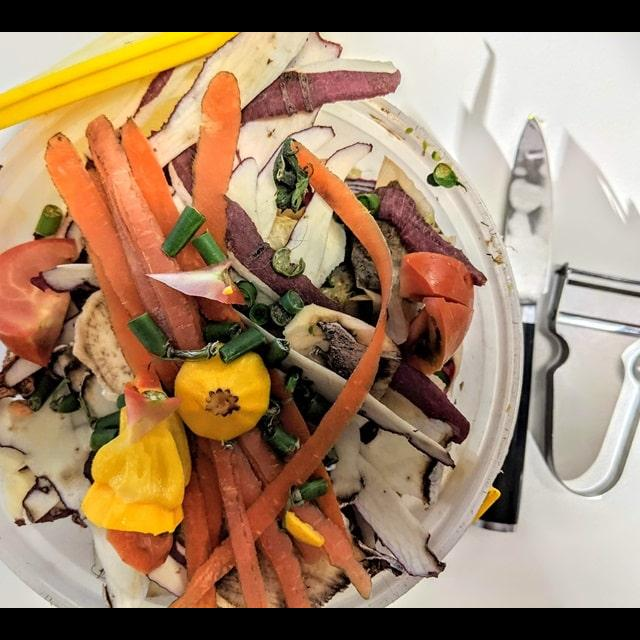food_waste: (45, 138, 212, 379), (82, 109, 220, 359), (324, 383, 475, 554), (183, 450, 357, 597), (103, 32, 327, 144), (186, 68, 274, 299), (0, 365, 103, 541), (82, 394, 195, 542), (216, 41, 392, 122), (160, 333, 293, 438), (0, 247, 99, 377), (399, 234, 483, 373)
